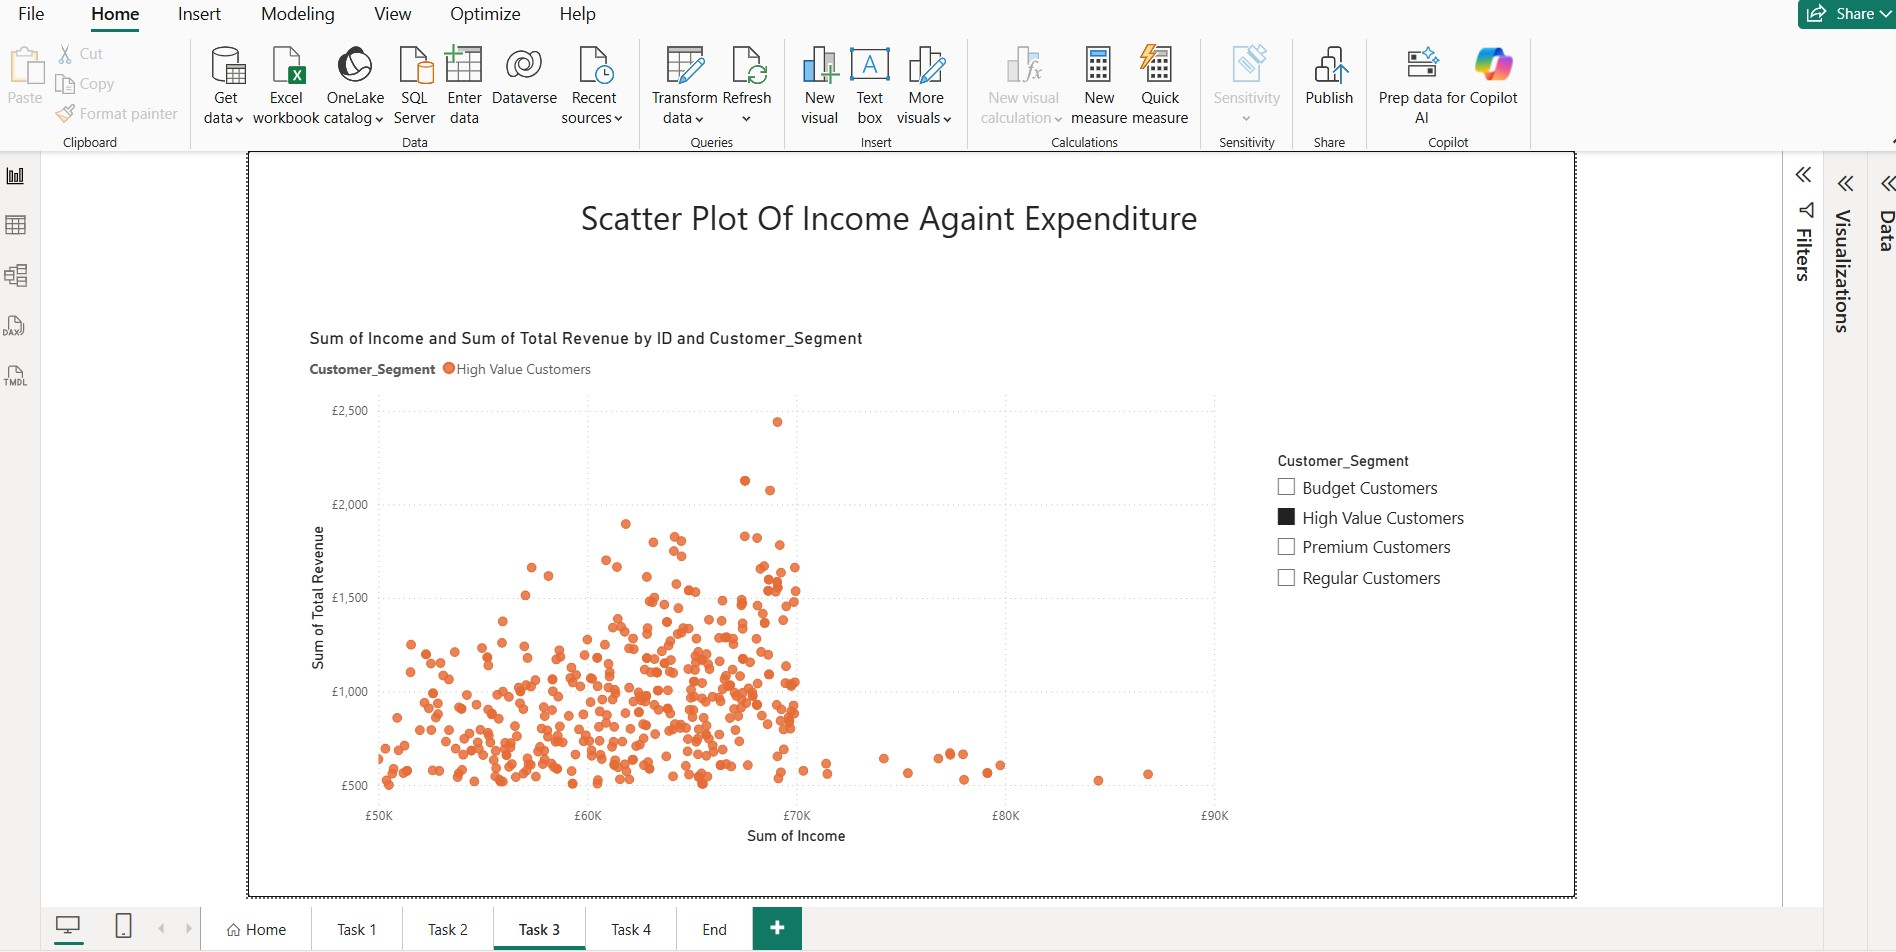

Layout of this report page (visuals, bound fields, positions):
{"tool":"powerbi","page":{"name":"Task 3","canvas":[1280,720],"ordinal":3},"visuals":[{"type":"scatterChart","fields":{"X":["Sum(marketing_campaign.Income)"],"Y":["Sum(marketing_campaign.Total_Revenue)"],"Category":["marketing_campaign.ID"]},"box":[54.9,170.2,1197.9,503.6],"z":0},{"type":"textbox","box":[315.6,37,677.9,71.4],"z":1000}]}

Visuals, with their boxes on the page's 1280x720 design canvas (x1, y1, x2, y2). These are canvas units, not pixel positions in the 1896x952 screenshot, which may show the page scaled, cropped or inside an application window:
scatterChart - Sum(marketing_campaign.Income) x Sum(marketing_campaign.Total_Revenue): (left=55, top=170, right=1253, bottom=674)
textbox: (left=316, top=37, right=994, bottom=108)
